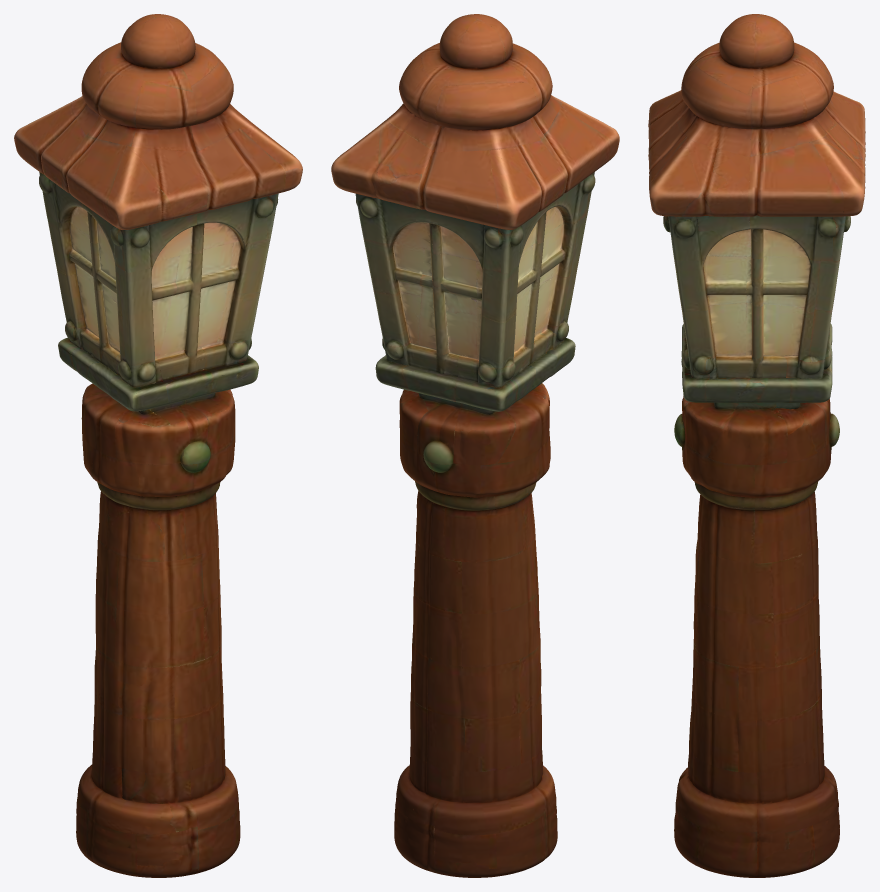
Rendered from wooden-lantern.glb.
The picture shows the model from 3 angles, left to right: view 1: azimuth 30°, elevation 25°; view 2: azimuth 150°, elevation 25°; view 3: azimuth 270°, elevation 25°; orthographic projection.
Visible parts, largest first — view 1: mesh_node; view 2: mesh_node; view 3: mesh_node.
Boxes of the visible parts, x1,y1,x2,y2 form: mesh_node: (14,14,302,877); mesh_node: (331,14,619,877); mesh_node: (648,14,865,877).
Size of the model in its own units: 0.451 by 1.9 by 0.4507.
Materials: 1 (1 with a texture image).
